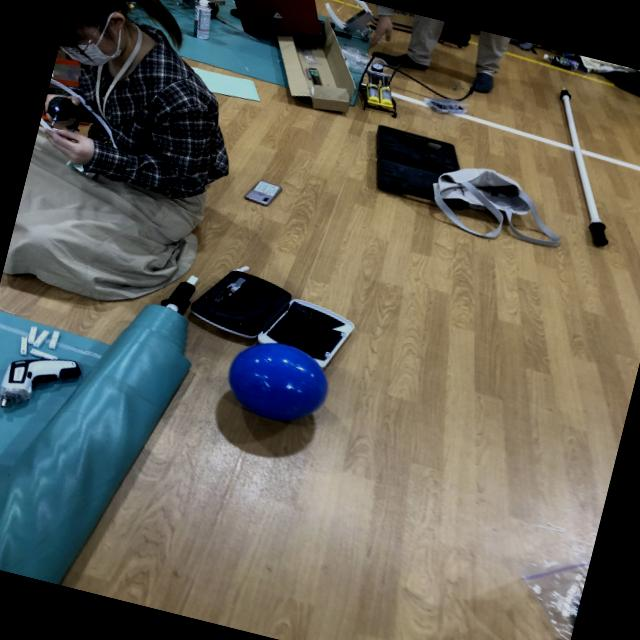blue_ball: (218, 332, 338, 428)
